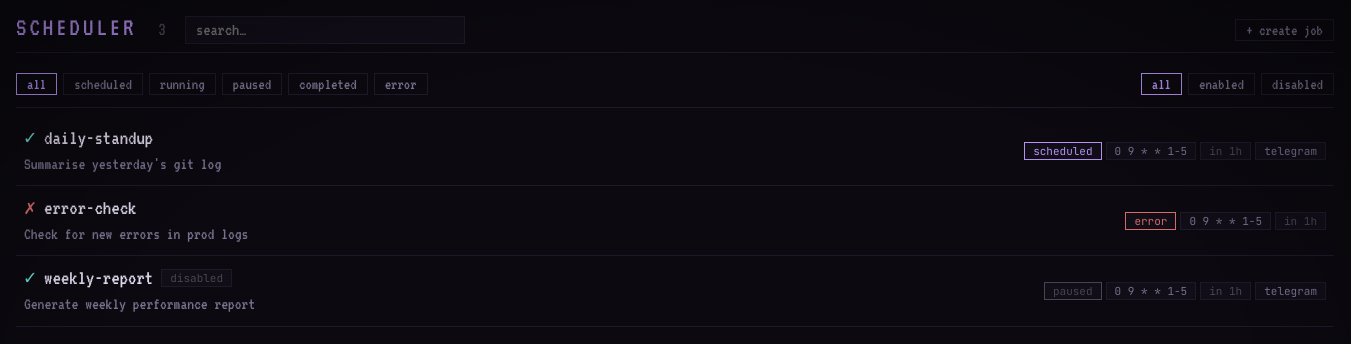
Test: SchedulerView › state filter tabs › disabled filter shows only disabled jobs
The image size is (1351, 344).
Click the button "disabled" at (1297,84), box x1=1261 y1=73 x2=1334 y2=95
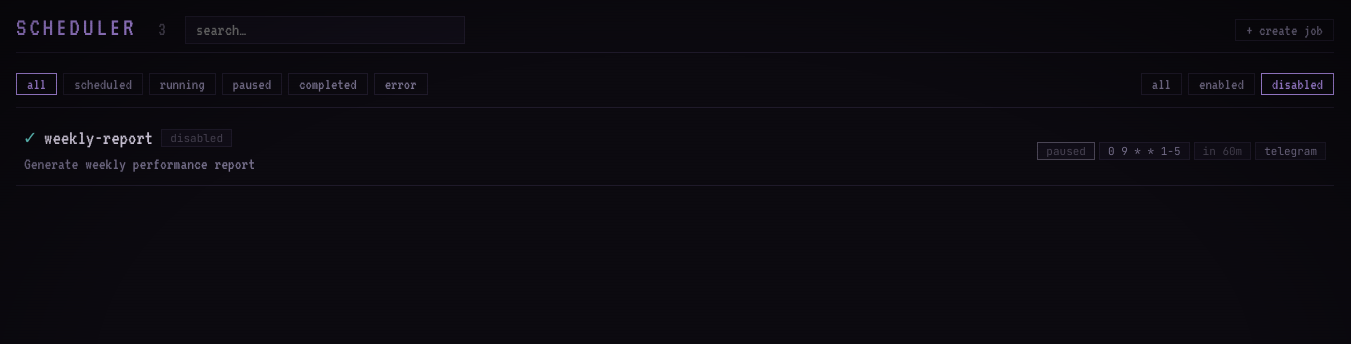
Result: the number of elements with class "dv-row-title" is 1 at x1=24 y1=127 x2=232 y2=148
